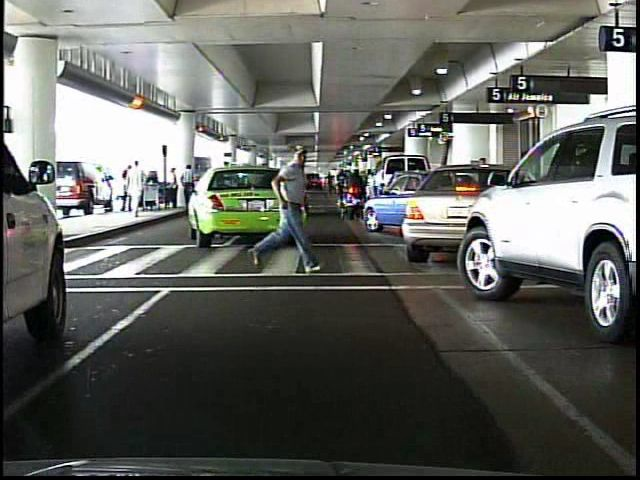person: (257, 143, 318, 277)
